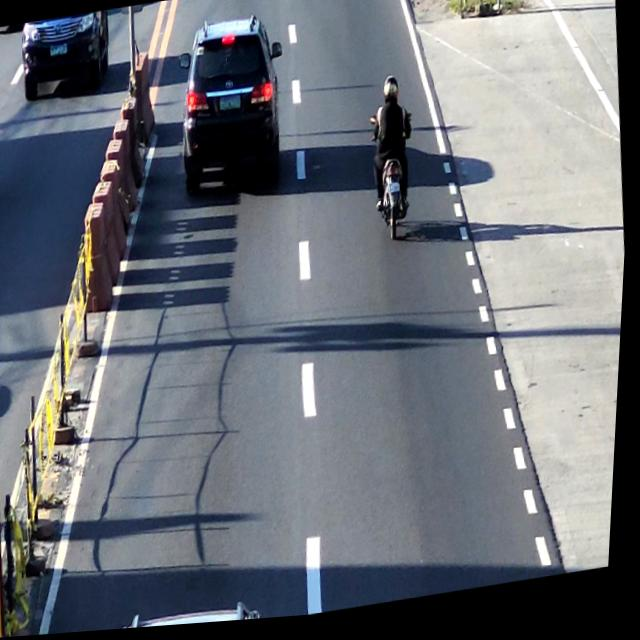Car: (171, 15, 294, 205)
License-Plate: (220, 98, 244, 117), (387, 186, 405, 201)
Motorcycle: (365, 80, 424, 252)
